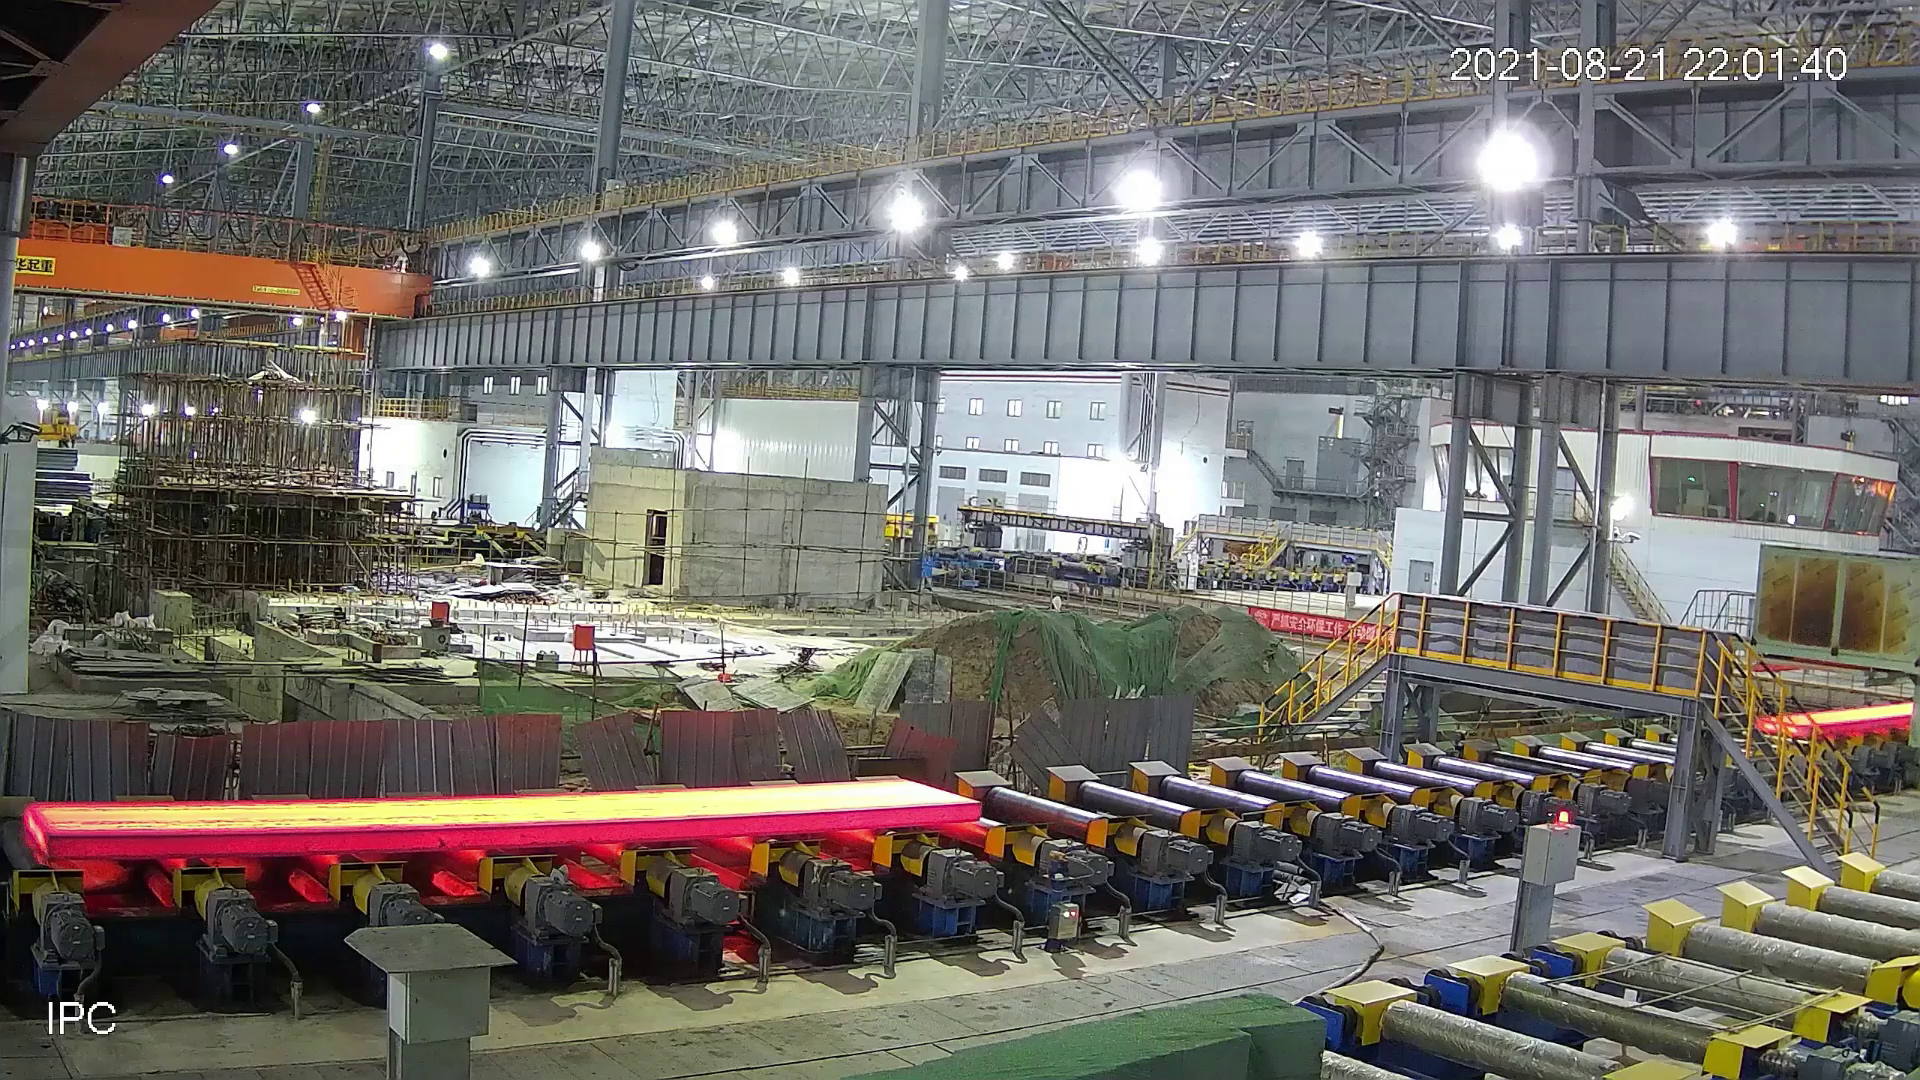slab: (25, 782, 982, 870), (1742, 694, 1913, 738)
